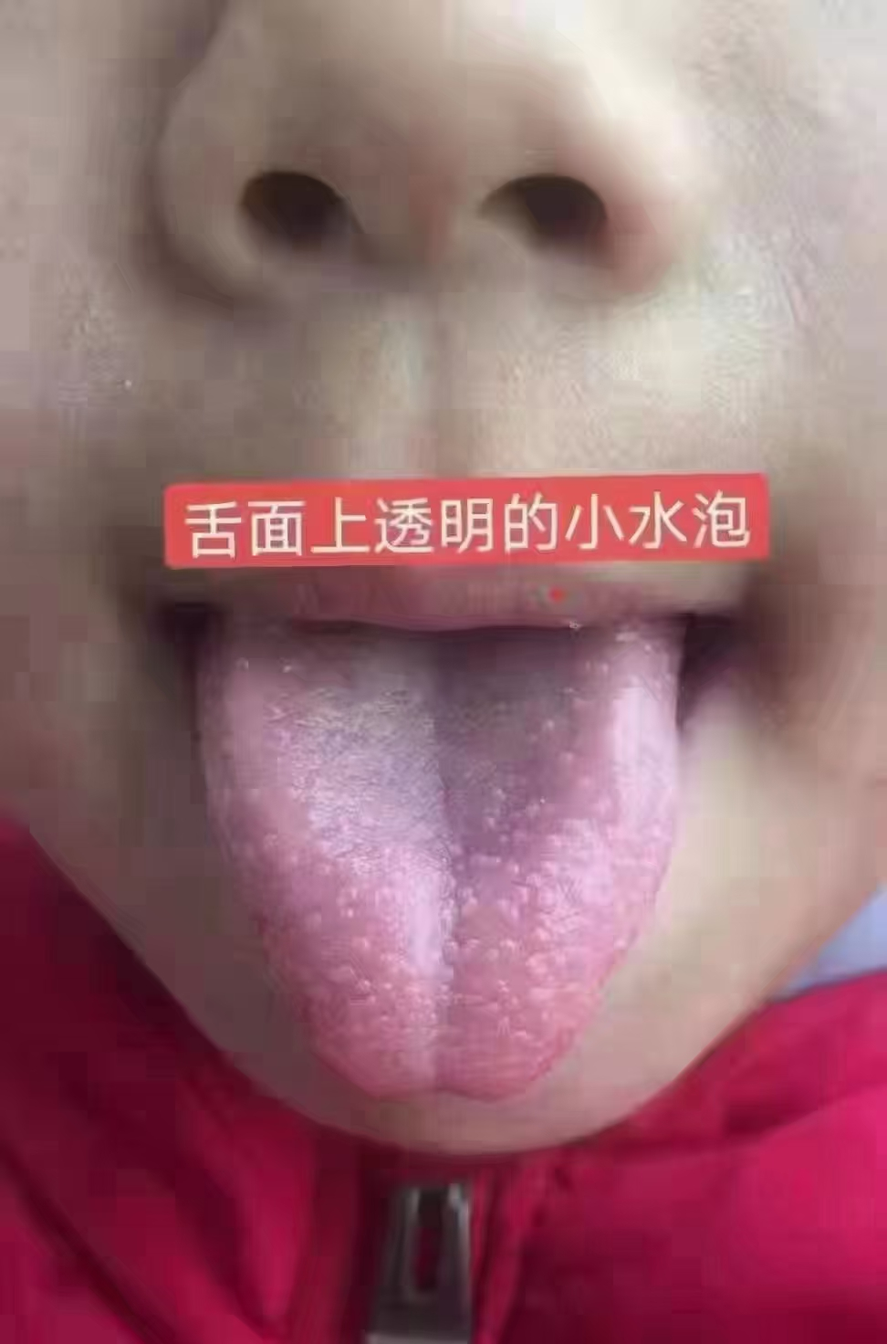baitaishe: (199, 614, 679, 1103)
huataishe: (308, 848, 566, 1032)
